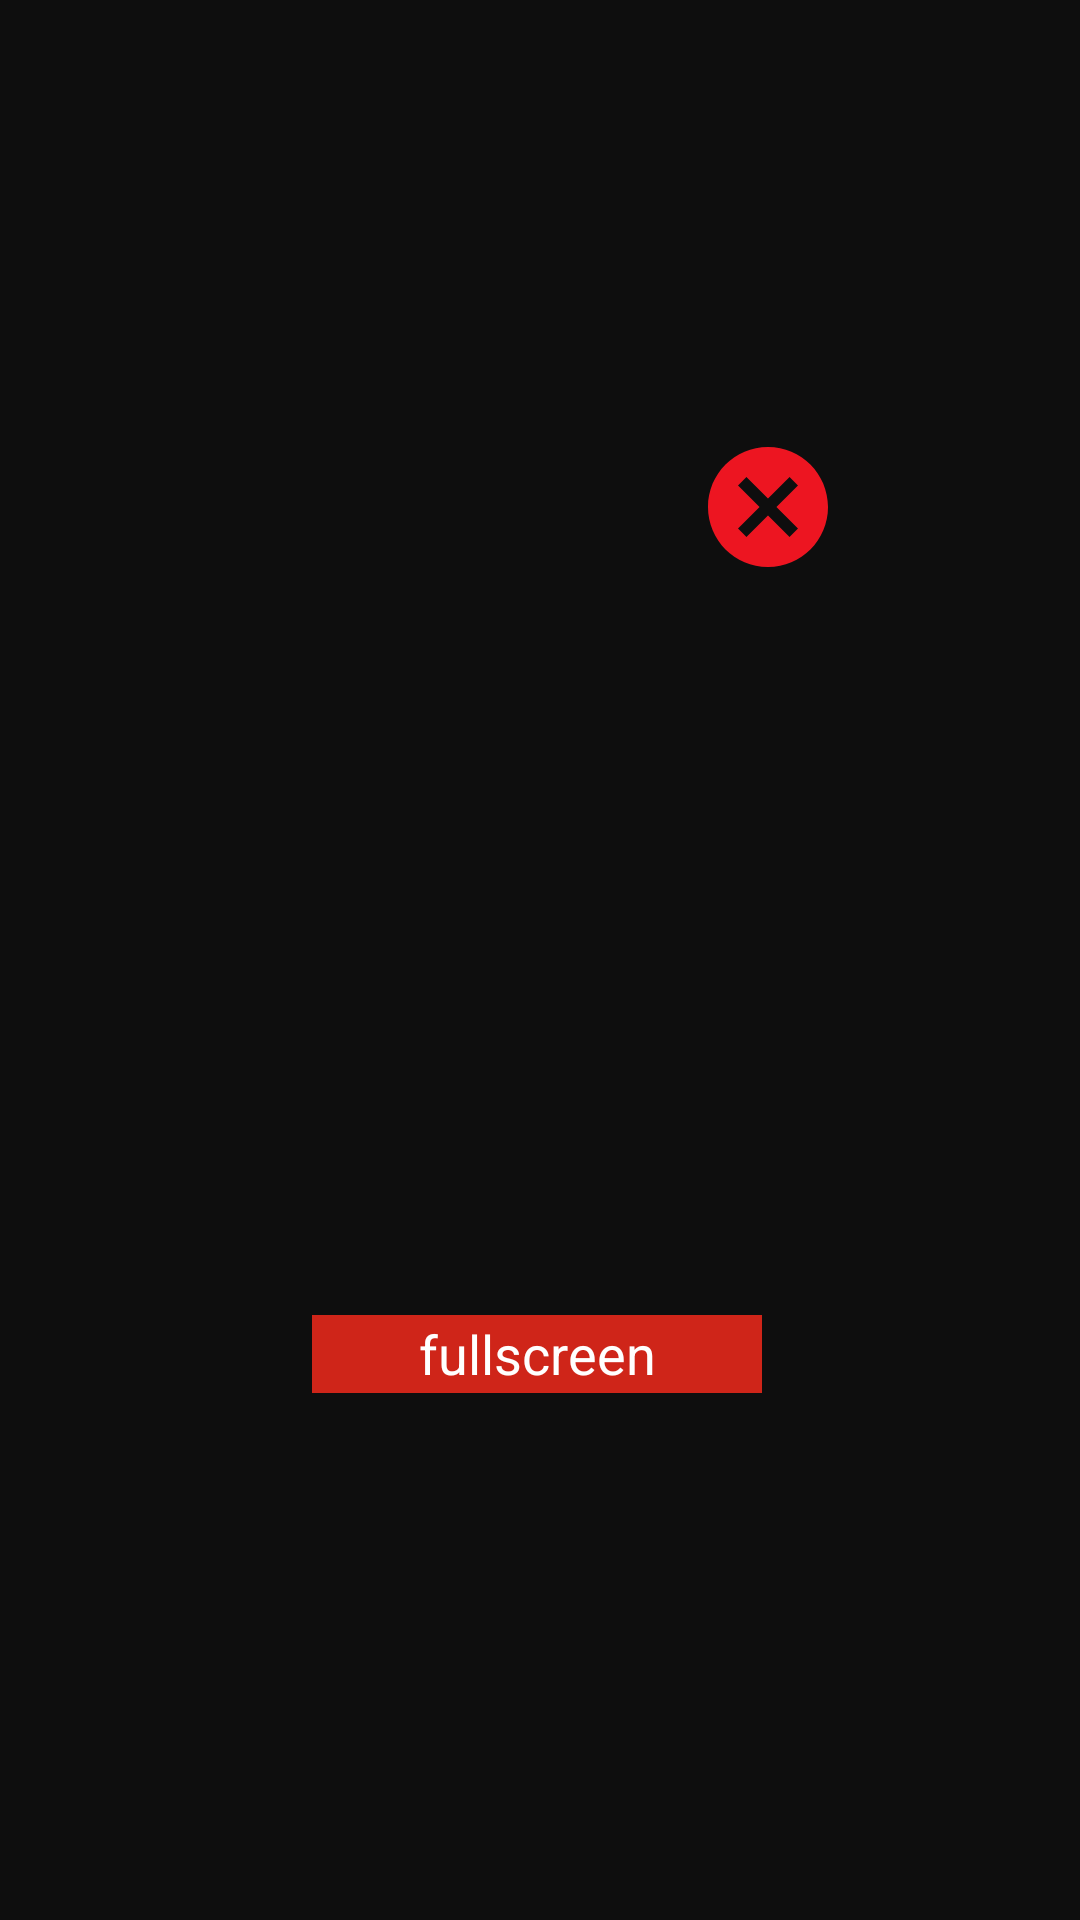

Screen size 1080*1920. Icon name, then its center in pixels as point (x, y):
cancel: point (768, 507)
